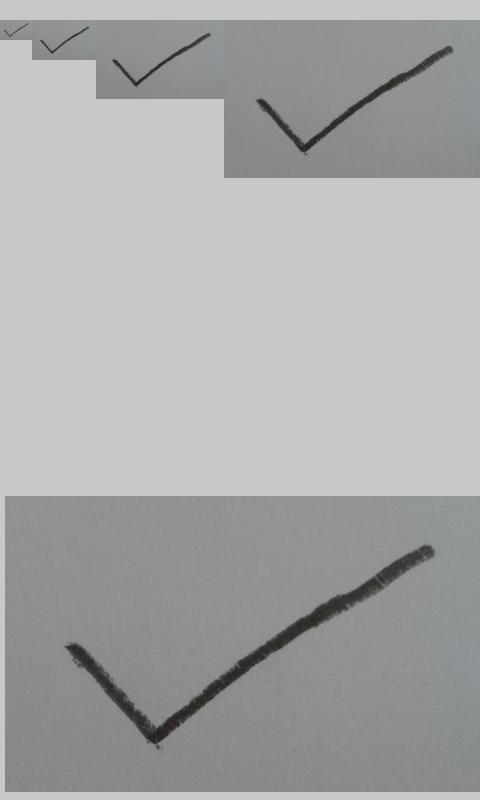check_box: (68, 546, 433, 744), (257, 46, 452, 153), (113, 32, 211, 88), (40, 26, 90, 54), (4, 23, 28, 37)
